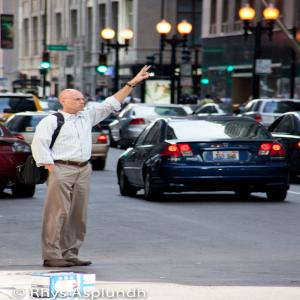Vehicle-registration-plate: (213, 151, 240, 162)
